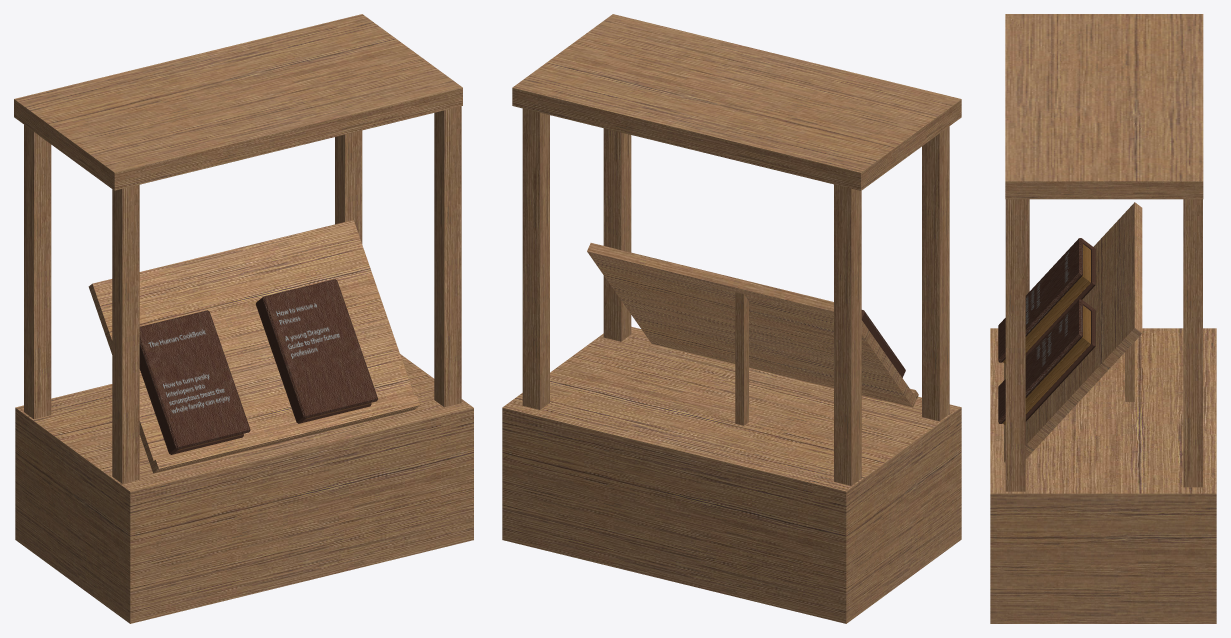
Rendered from MarketStandBooks.FBX.
3 views of the same model, side by side, from view 1: azimuth 30°, elevation 25°; view 2: azimuth 150°, elevation 25°; view 3: azimuth 270°, elevation 25° (orthographic).
Visible parts, largest first — view 1: Box002, Box001, Box003, Group001, Box010, Box006, Pole, Box012, Box008; view 2: Box002, Box001, Group001, Box003, Pole, Box004; view 3: Box002, Box001, Group001, Box003, Box010, Box006, Box011, Box007, Box013, Box004, Box009.
Part boxes in pixels (bbox=[...]): Box002: bbox=[15, 354, 473, 623]; Box001: bbox=[14, 14, 462, 190]; Box003: bbox=[88, 220, 419, 473]; Group001: bbox=[112, 106, 461, 483]; Box010: bbox=[262, 279, 377, 418]; Box006: bbox=[139, 310, 250, 449]; Pole: bbox=[24, 125, 51, 419]; Box012: bbox=[256, 297, 305, 423]; Box008: bbox=[139, 345, 178, 454]; Box002: bbox=[502, 326, 961, 623]; Box001: bbox=[512, 14, 961, 190]; Group001: bbox=[522, 108, 949, 421]; Box003: bbox=[587, 243, 918, 407]; Pole: bbox=[834, 184, 861, 485]; Box004: bbox=[735, 292, 748, 425]; Box002: bbox=[990, 328, 1216, 623]; Box001: bbox=[1005, 14, 1203, 199]; Group001: bbox=[1005, 199, 1202, 491]; Box003: bbox=[1004, 202, 1142, 463]; Box010: bbox=[998, 299, 1082, 423]; Box006: bbox=[998, 238, 1082, 362]; Box011: bbox=[1003, 305, 1090, 425]; Box007: bbox=[1003, 244, 1090, 363]; Box013: bbox=[1025, 309, 1095, 421]; Box004: bbox=[1125, 342, 1134, 401]; Box009: bbox=[1025, 248, 1095, 356].
Bounding box in the file's own units: 40.38 × 49.12 × 22.88.
5 materials, 5 textured.
